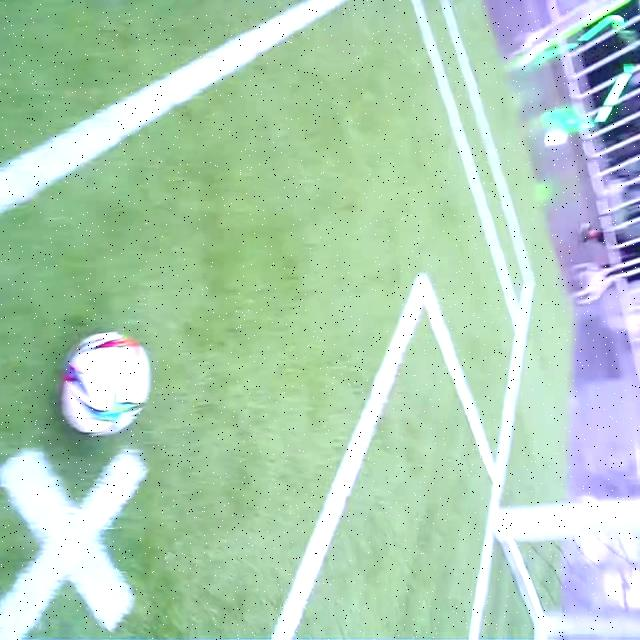ball: (62, 332, 150, 436)
